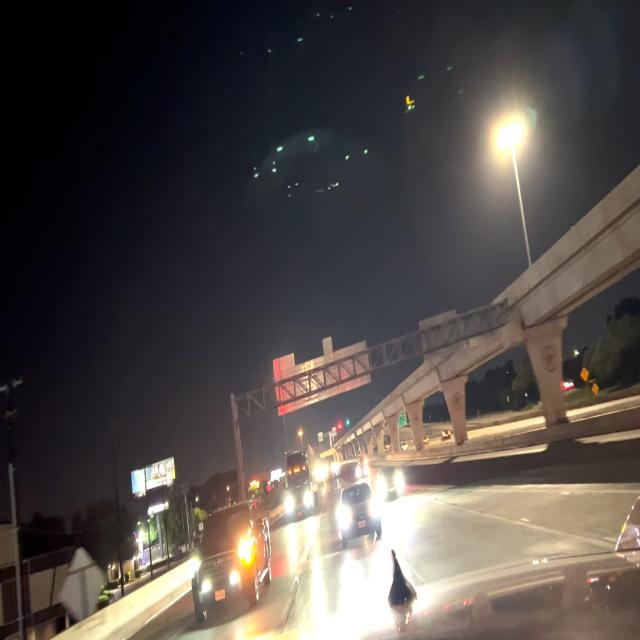back-of-sign: (270, 339, 374, 416), (419, 311, 465, 357)
